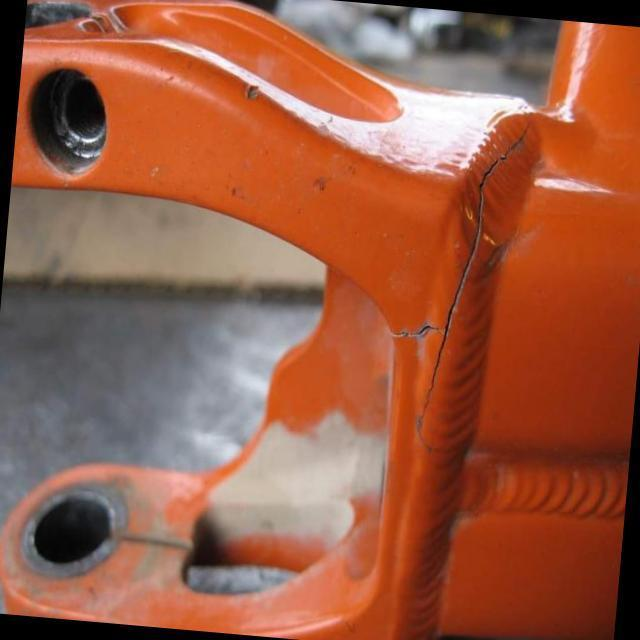defect: (386, 106, 534, 456)
